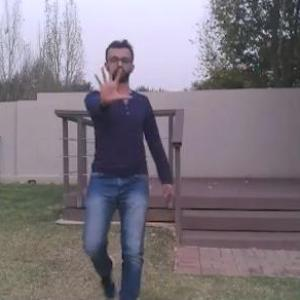follow_hand: (92, 64, 133, 105)
